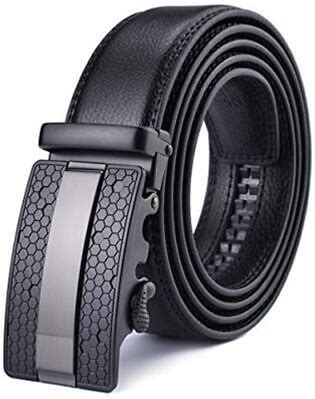cuero: (59, 5, 302, 346)
